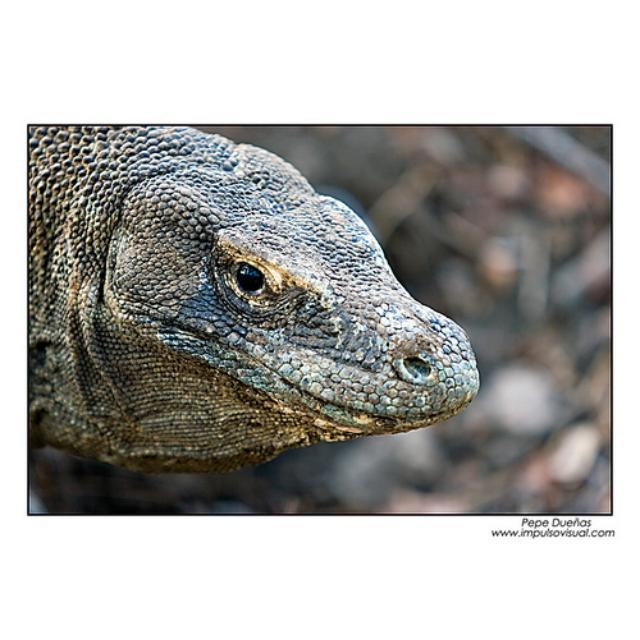KomodoDragon: (27, 124, 480, 474)
